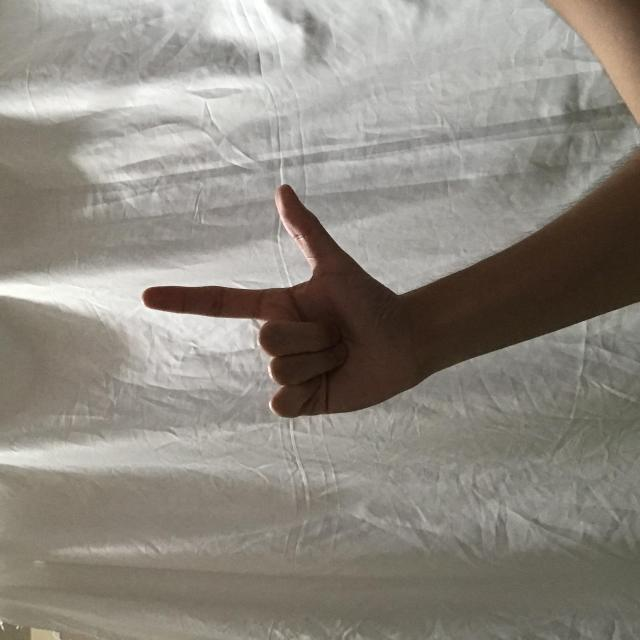L: (222, 144, 454, 412)
